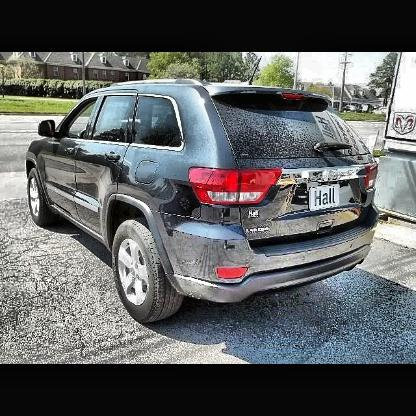Jeep Grand Cherokee SUV 2012: (26, 80, 380, 326)
